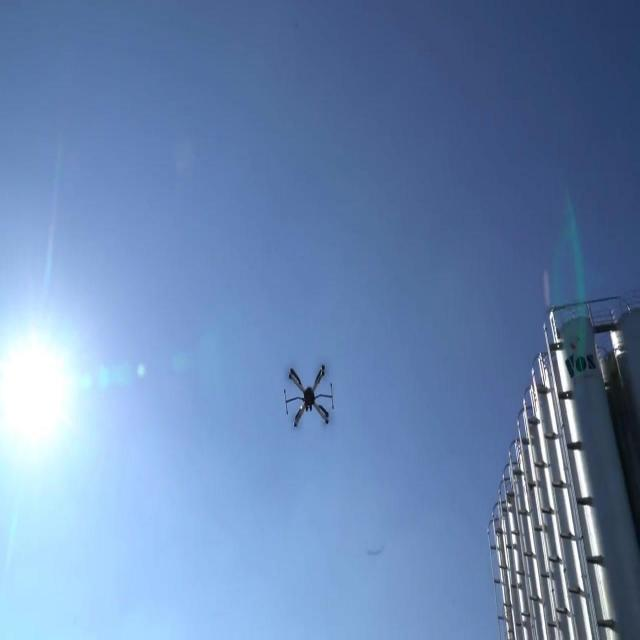UAV: (284, 364, 334, 428)
